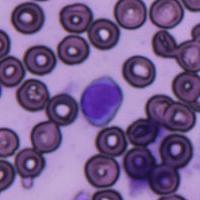L: (80, 76, 124, 127)
